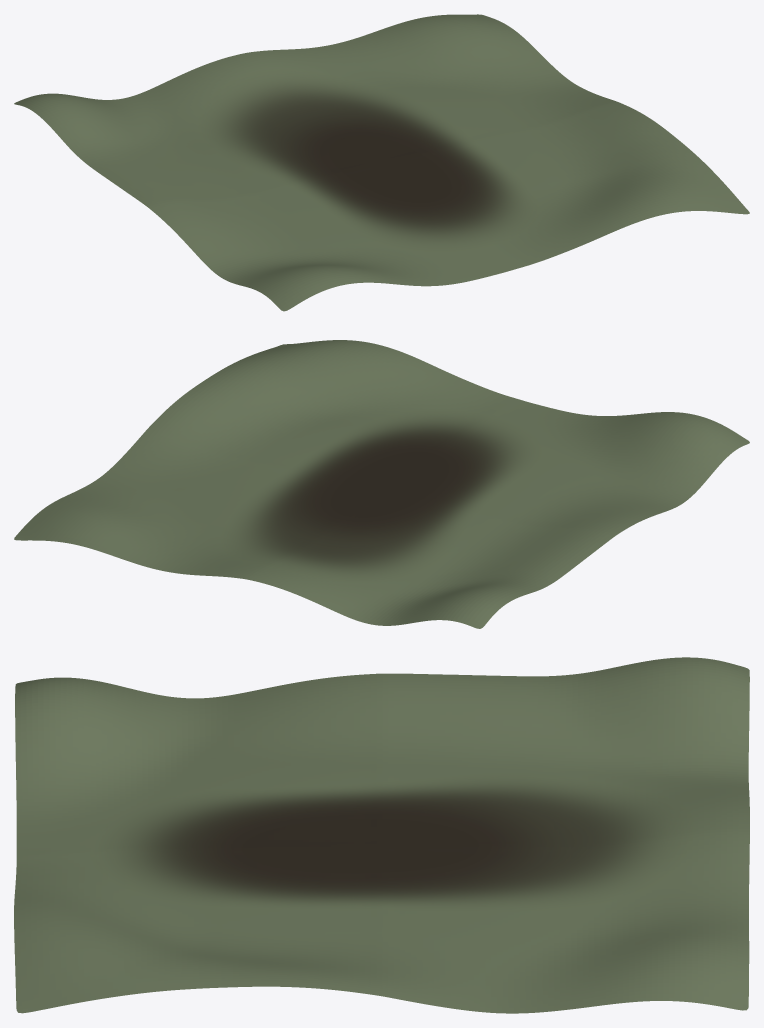
File: land.fbx
3 views of the same model, one above another, from view 1: azimuth 30°, elevation 25°; view 2: azimuth 150°, elevation 25°; view 3: azimuth 270°, elevation 25° (orthographic). The views are drawn at different scales.
Parts seen in each view (by area): view 1: Plane; view 2: Plane; view 3: Plane.
Part boxes in pixels (bbox=[...]): Plane: bbox=[14, 14, 749, 311]; Plane: bbox=[14, 340, 749, 628]; Plane: bbox=[14, 657, 749, 1013].
Bounding box in the file's own units: 3381 × 252 × 3386.
1 material, 1 textured.
